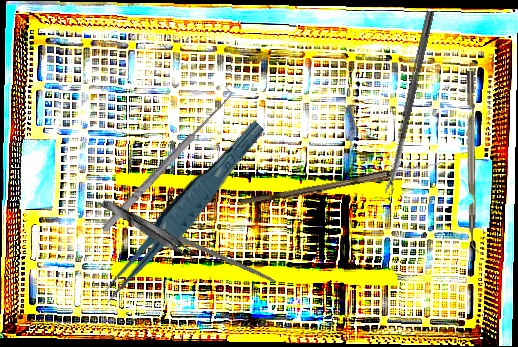Chopper: (467, 71, 483, 253)
Hook Surgical: (94, 84, 238, 235)
Scalpel Handle: (97, 199, 278, 285)
Surgical Spoon: (240, 156, 446, 210), (383, 9, 435, 196)
Tissue Forceps: (85, 118, 278, 306), (99, 194, 202, 265)
